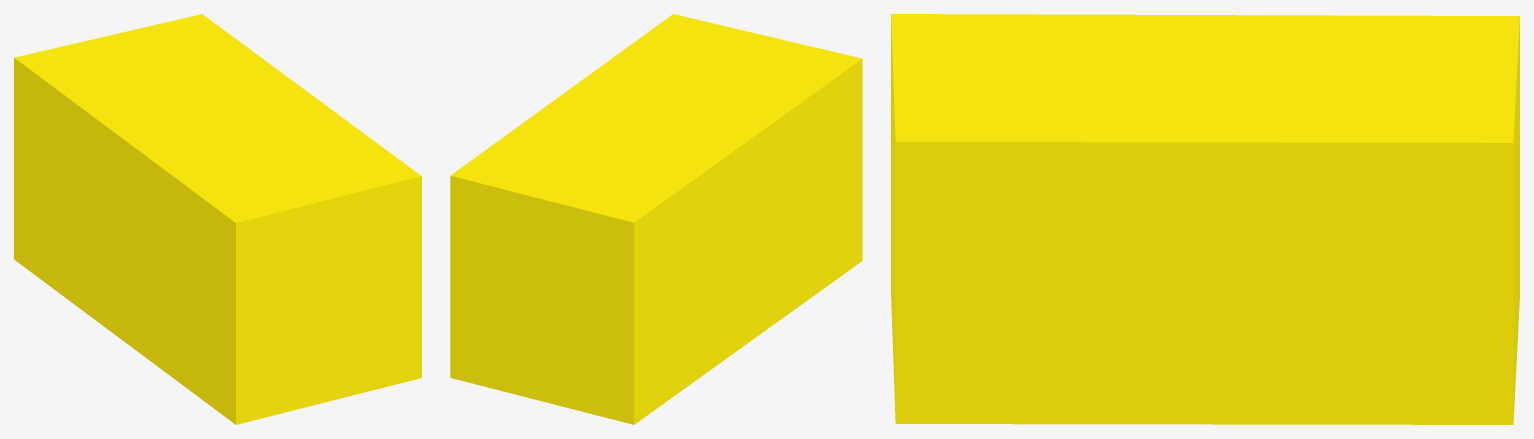
The model's file is scene_parl.gltf.
3 views of the same model, side by side, from view 1: azimuth 30°, elevation 25°; view 2: azimuth 150°, elevation 25°; view 3: azimuth 270°, elevation 25° (orthographic). The views are drawn at different scales.
Size of the model in its own units: 0.9797 by 1 by 2.02.
